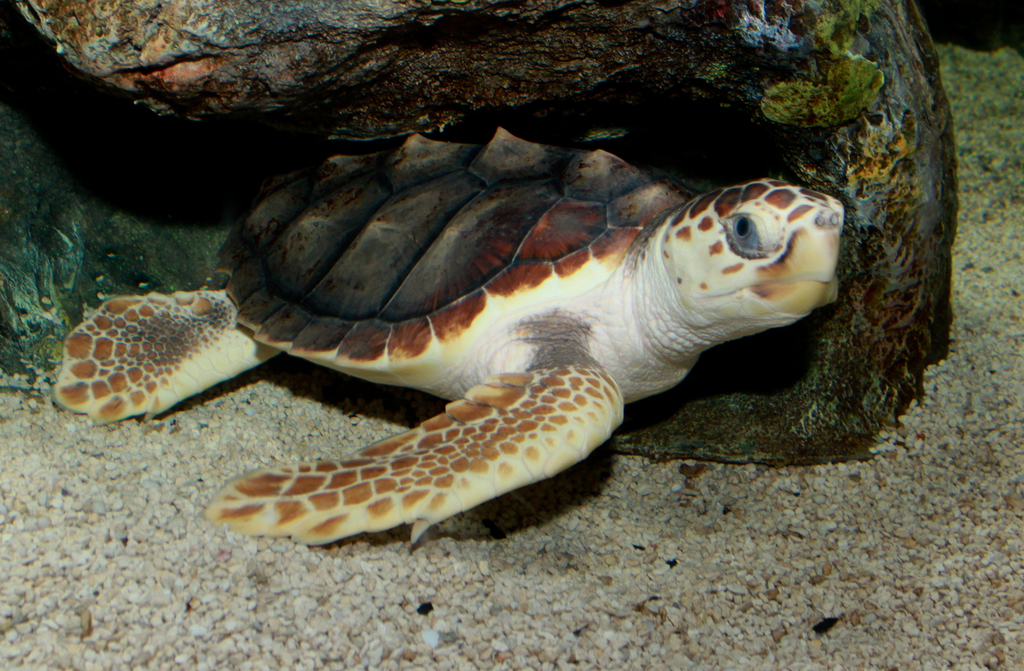Sea turtles: (52, 122, 849, 549)
